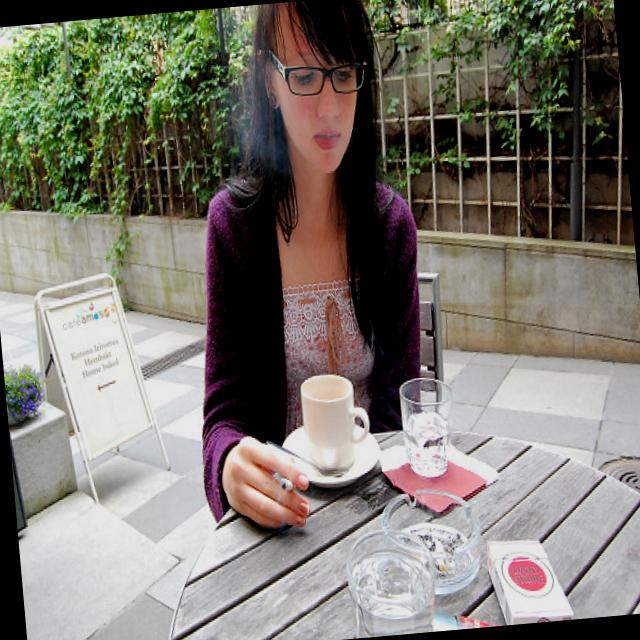cigarette: (279, 474, 302, 496)
